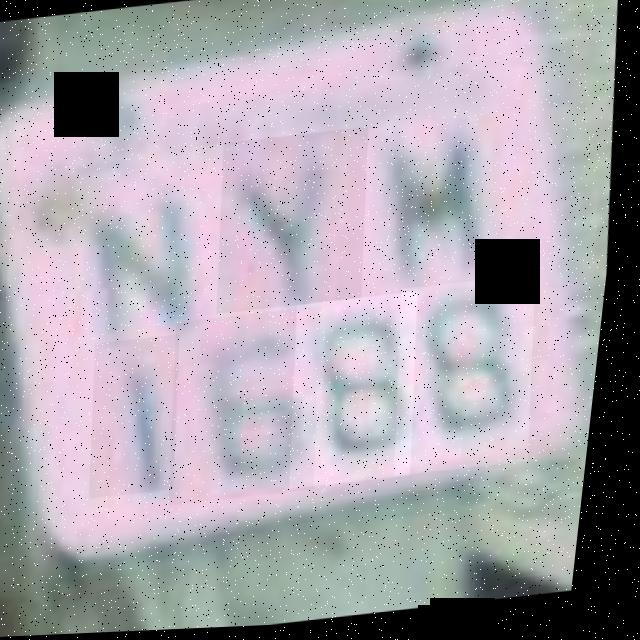1: (89, 336, 198, 500)
6: (167, 309, 341, 508)
8: (392, 278, 555, 480), (288, 294, 438, 492)
N: (65, 168, 245, 344), (356, 122, 527, 306)
Y: (212, 129, 383, 317)
